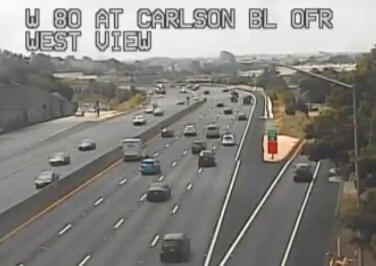car: (159, 233, 190, 261), (146, 183, 169, 200), (139, 159, 159, 174), (198, 150, 215, 166), (192, 141, 206, 153), (221, 134, 234, 145)
small-truck: (122, 138, 142, 160)
